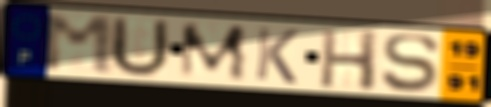H: (317, 28, 382, 93)
K: (253, 25, 302, 86)
M: (39, 13, 117, 77), (177, 22, 250, 82)
S: (380, 32, 443, 94)
U: (107, 14, 172, 79)
